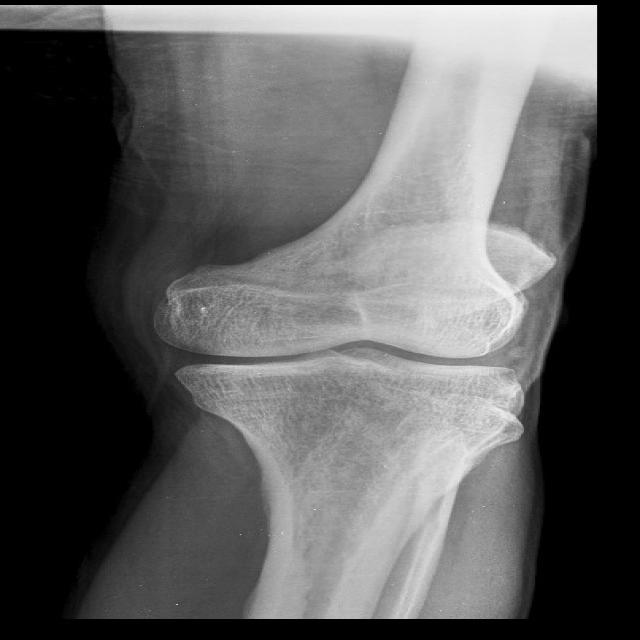osteo: (150, 261, 533, 411)
